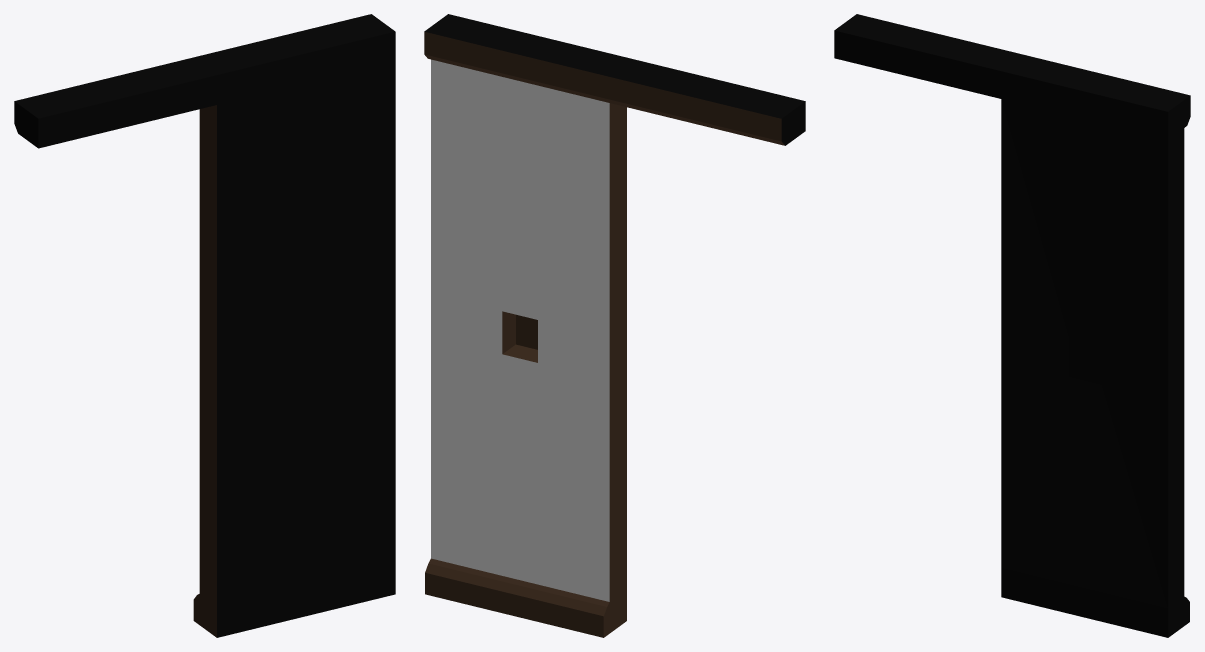
File: Wall_DoorFrameV2.fbx
3 views of the same model, side by side, from view 1: azimuth 30°, elevation 25°; view 2: azimuth 150°, elevation 25°; view 3: azimuth 330°, elevation 25° (orthographic). The views are drawn at different scales.
Visible parts, largest first — view 1: Cube.177; view 2: Cube.177; view 3: Cube.177.
Boxes of the visible parts, x1,y1,x2,y2 form: Cube.177: (14, 14, 395, 637); Cube.177: (424, 14, 805, 637); Cube.177: (834, 14, 1190, 637).
Bounding box in the file's own units: 0.2334 × 2 × 3.01.
